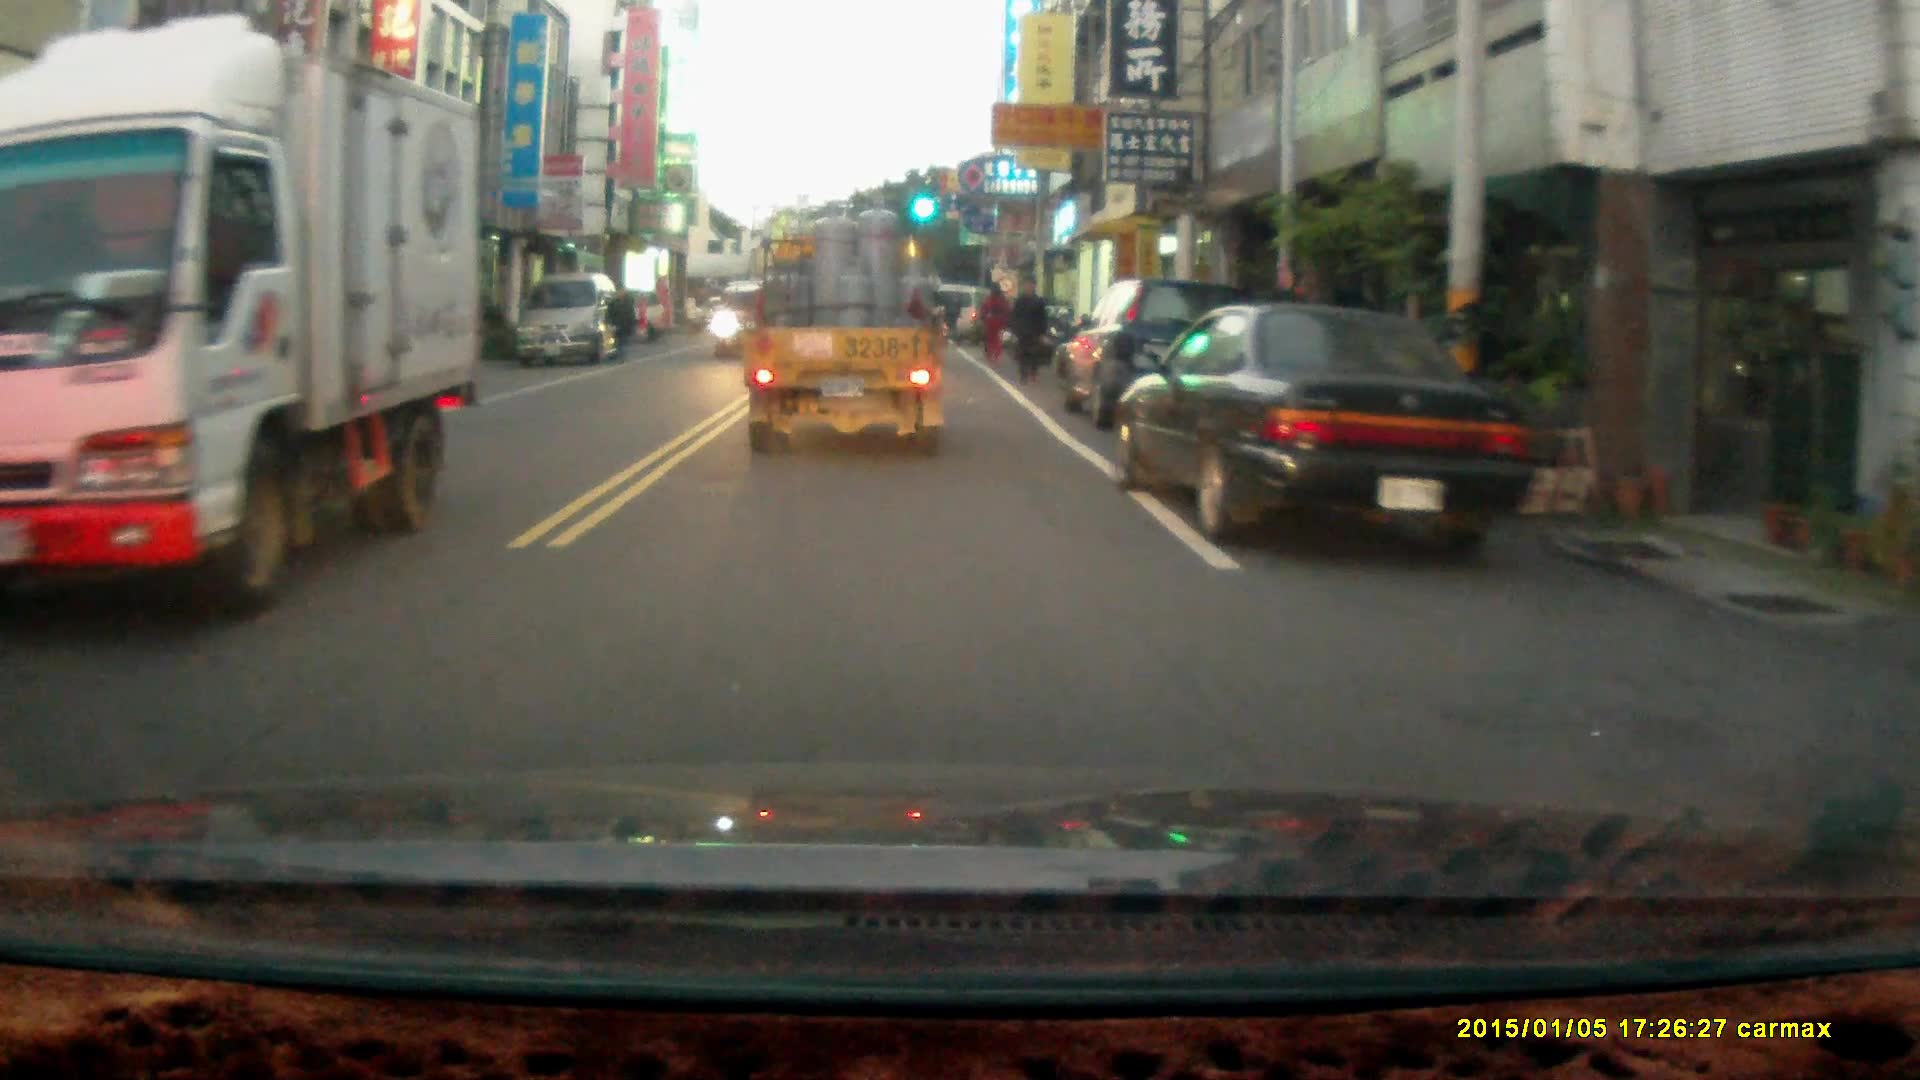pedestrian: (1007, 274, 1049, 386), (978, 280, 1014, 367), (605, 282, 637, 362)
vehicle: (1, 13, 494, 626), (1115, 306, 1536, 556), (740, 191, 954, 464), (1063, 278, 1267, 438), (516, 272, 626, 367), (706, 279, 804, 368)
